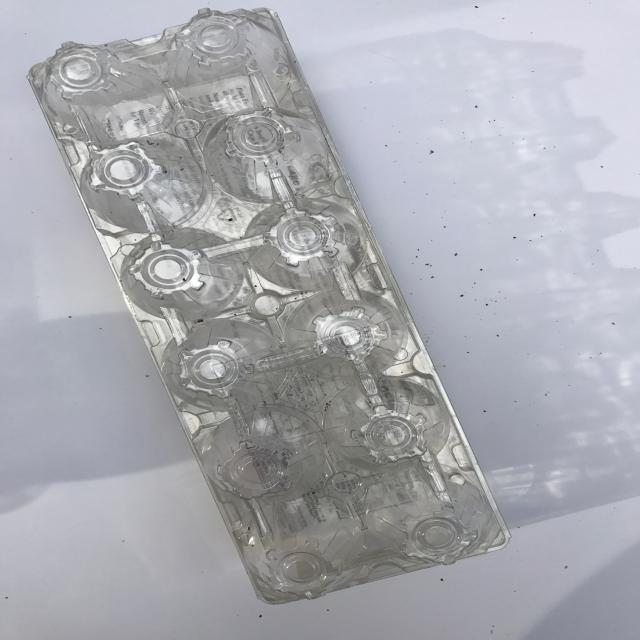plastic: (22, 5, 516, 608)
